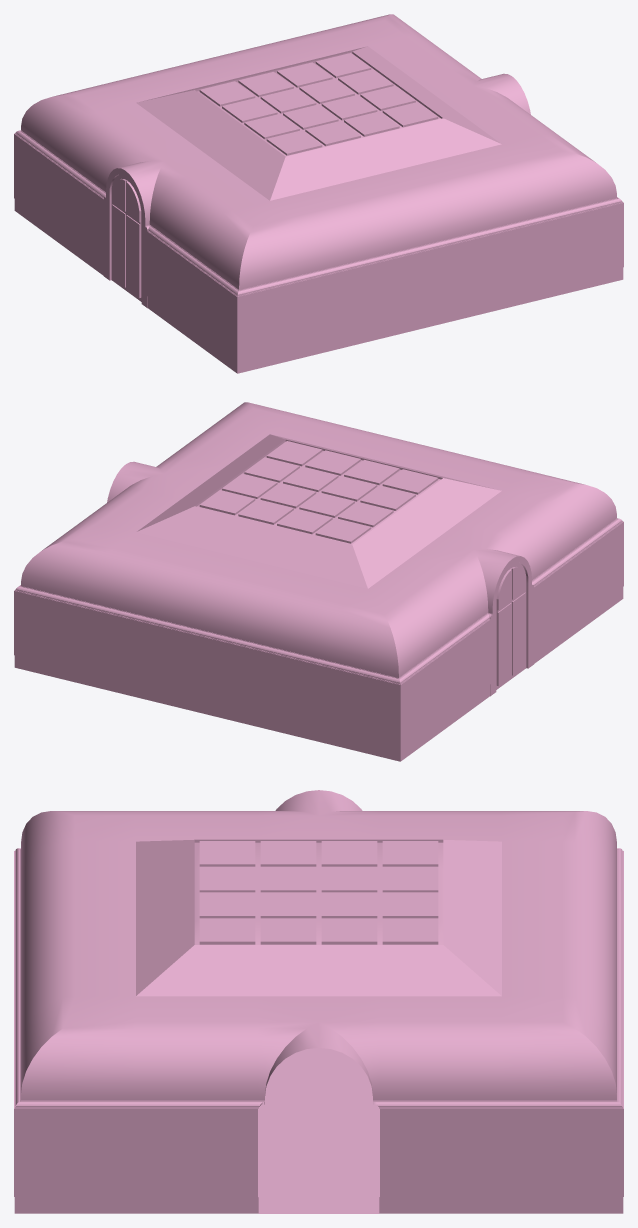
The model's file is Arena_Entry.fbx.
3 renders of one model, top to bottom at view 1: azimuth 30°, elevation 25°; view 2: azimuth 150°, elevation 25°; view 3: azimuth 270°, elevation 25°, orthographic. The views are drawn at different scales.
Visible parts, largest first — view 1: Grande salle intro; view 2: Grande salle intro; view 3: Grande salle intro.
Boxes of the visible parts, left/top/right/bottom form: Grande salle intro: left=14, top=14, right=623, bottom=373; Grande salle intro: left=14, top=402, right=623, bottom=761; Grande salle intro: left=14, top=790, right=623, bottom=1213.
Size of the model in its own units: 4000 by 1402 by 4000.
